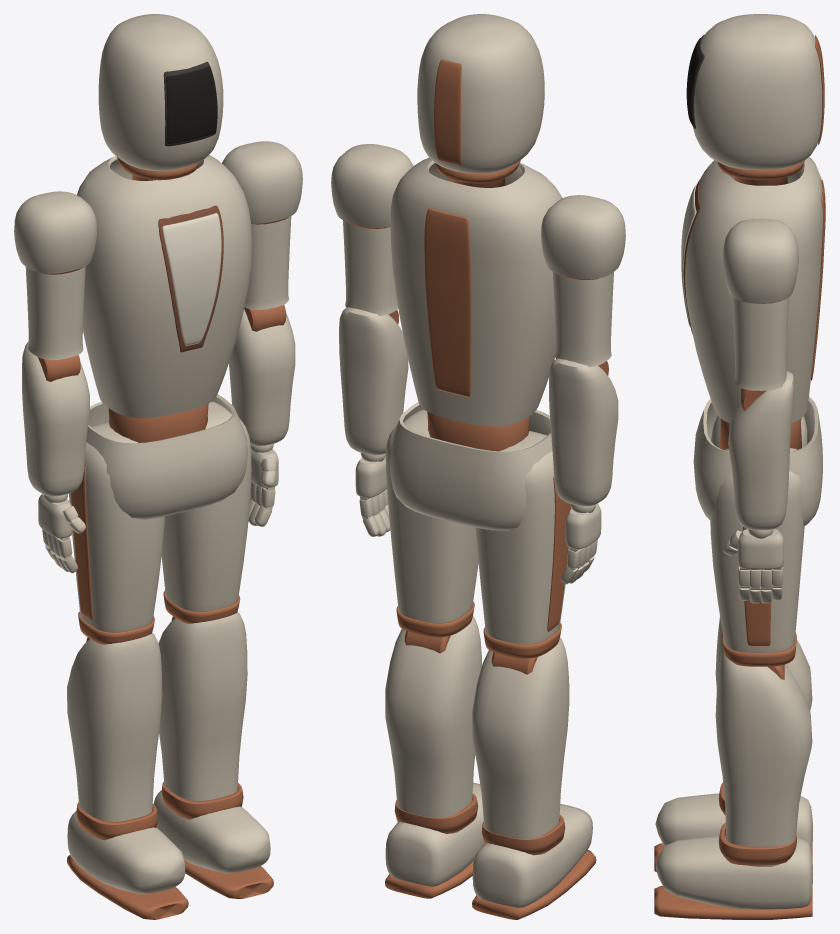
Rendered from sonnet-5.5.glb.
3 views of the same model, side by side, from view 1: azimuth 30°, elevation 25°; view 2: azimuth 150°, elevation 25°; view 3: azimuth 270°, elevation 25° (orthographic). The views are drawn at different scales.
Parts seen in each view (by area): view 1: torso, shin_R, shin_L, head, thigh_R, upper_R, pelvis, thigh_L, foot_R, upper_L, foot_L, fore_R (+6 smaller); view 2: torso, head, shin_R, shin_L, thigh_R, pelvis, upper_R, thigh_L, upper_L, foot_R, fore_R, fore_L (+5 smaller); view 3: torso, head, shin_L, foot_L, upper_L, thigh_L, fore_L, pelvis, foot_R, hand_L, fingers_L, shin_R (+2 smaller).
Boxes of the visible parts, x1,y1,x2,y2 form: torso: [77, 155, 251, 442]; shin_R: [67, 633, 162, 821]; shin_L: [158, 612, 247, 800]; head: [98, 14, 223, 180]; thigh_R: [69, 422, 164, 644]; upper_R: [14, 191, 96, 381]; pelvis: [86, 394, 247, 519]; thigh_L: [161, 401, 251, 623]; foot_R: [67, 802, 188, 919]; upper_L: [222, 141, 302, 331]; foot_L: [153, 782, 273, 898]; fore_R: [22, 341, 89, 496]; torso: [390, 157, 562, 451]; head: [417, 14, 544, 183]; shin_R: [472, 637, 569, 854]; shin_L: [385, 616, 481, 833]; thigh_R: [475, 431, 571, 674]; pelvis: [390, 402, 552, 530]; upper_R: [541, 195, 625, 375]; thigh_L: [385, 409, 478, 653]; upper_L: [331, 144, 413, 324]; foot_R: [472, 804, 596, 919]; fore_R: [549, 358, 618, 506]; fore_L: [339, 307, 408, 455]; torso: [681, 157, 825, 450]; head: [692, 14, 824, 179]; shin_L: [715, 648, 812, 866]; foot_L: [654, 823, 812, 919]; upper_L: [722, 218, 798, 410]; thigh_L: [710, 448, 804, 679]; fore_L: [728, 371, 794, 530]; pelvis: [693, 397, 822, 526]; foot_R: [654, 782, 812, 872]; hand_L: [723, 529, 783, 569]; fingers_L: [738, 566, 782, 603]; shin_R: [715, 617, 812, 709].
Bounding box in the file's own units: 0.5357 × 1.57 × 0.2823.
